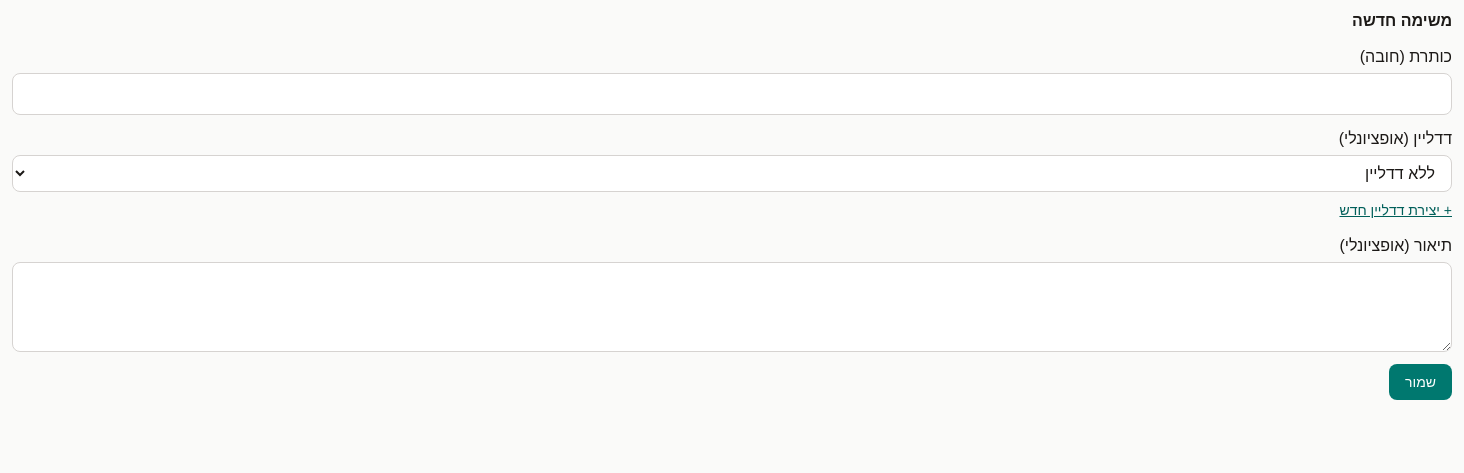
Test: work UI › retains task form input after server validation failure
In the field named "title": (732, 94) [12, 73, 1452, 115], type "כותרת שנשמרת"
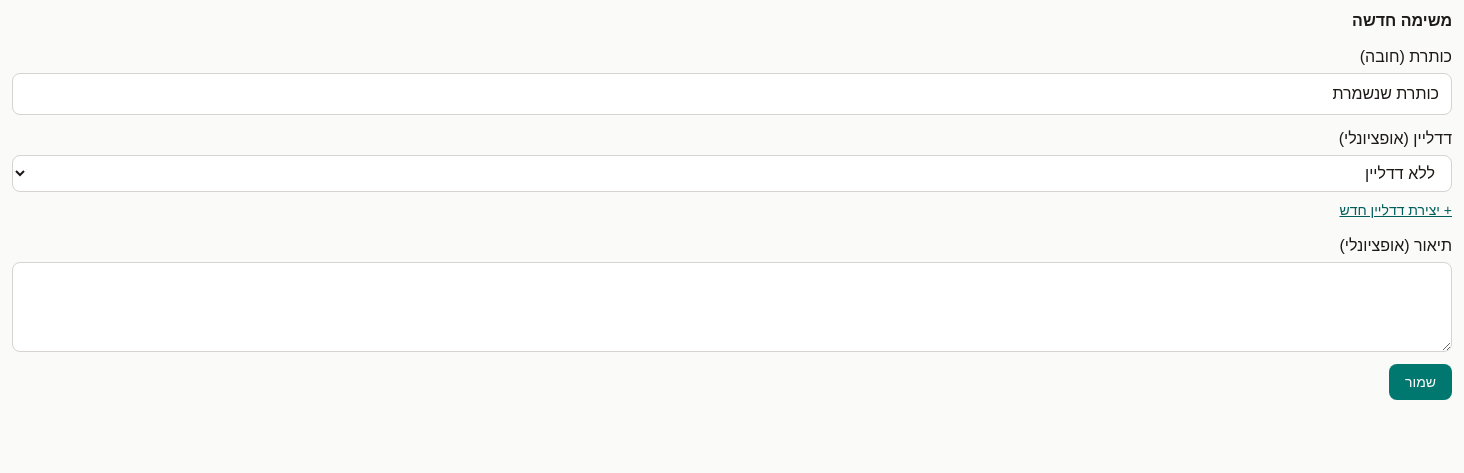
In the text box named "description": (732, 307) [12, 262, 1452, 352], type "תיאור שנשמר"
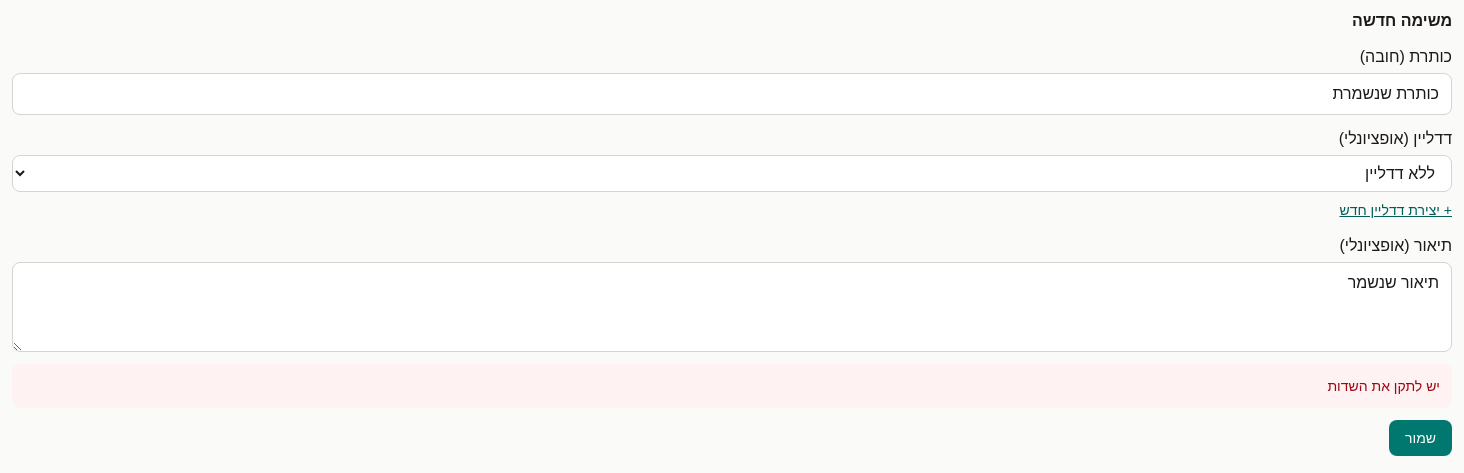
Expected: the message "יש לתקן את השדות" is shown, [12, 364, 1452, 408]
